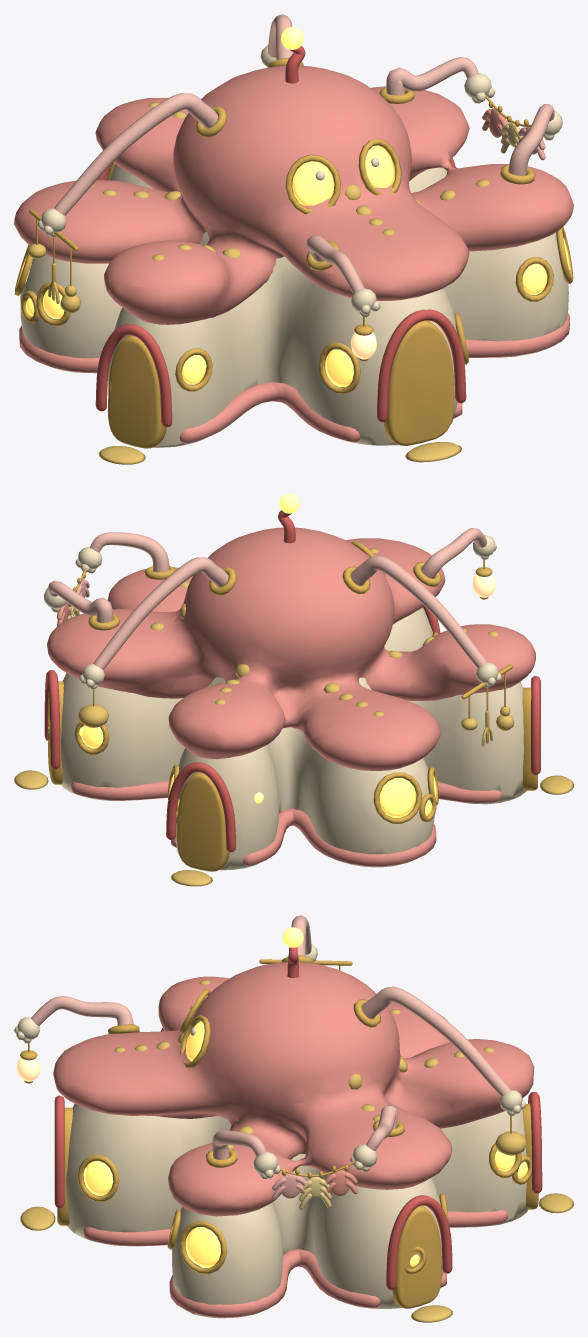
The model's file is house_06_0605.fbx.
3 renders of one model, top to bottom at view 1: azimuth 30°, elevation 25°; view 2: azimuth 150°, elevation 25°; view 3: azimuth 270°, elevation 25°, orthographic. The views are drawn at different scales.
Visible parts, largest first — view 1: Tawan_RoofMantle, Tawan_Body, Tawan_Door_Main, Tawan_WindowRims, Tawan_BaseCushion, Tawan_Windows, Tawan_Door_FrontLeft, Tawan_Arm_ToolsL, Tawan_DoorRim_Main, Tawan_DoorRim_FrontLeft, Tawan_ArmHands, Tawan_Arm_ClothesB (+8 smaller); view 2: Tawan_RoofMantle, Tawan_Body, Tawan_BaseCushion, Tawan_Door_Back, Tawan_Arm_ToolsL, Tawan_Arm_ToolsBack, Tawan_WindowRims, Tawan_ArmHands, Tawan_DoorRim_Back, Tawan_Windows, Tawan_Arm_ClothesA, Tawan_Tools (+10 smaller); view 3: Tawan_RoofMantle, Tawan_Body, Tawan_BaseCushion, Tawan_WindowRims, Tawan_Door_BackRight, Tawan_Windows, Tawan_Arm_ToolsBack, Tawan_ArmHands, Tawan_DoorRim_BackRight, Tawan_Arm_Lantern, Tawan_DoorRim_Main, Tawan_RoofDots (+12 smaller).
Part boxes in pixels (<box>): Tawan_RoofMantle: <box>14,65,573,324</box>; Tawan_Body: <box>20,164,568,447</box>; Tawan_Door_Main: <box>384,320,454,445</box>; Tawan_WindowRims: <box>14,138,573,393</box>; Tawan_BaseCushion: <box>19,313,569,443</box>; Tawan_Windows: <box>20,145,569,387</box>; Tawan_Door_FrontLeft: <box>108,335,166,448</box>; Tawan_Arm_ToolsL: <box>54,93,218,215</box>; Tawan_DoorRim_Main: <box>377,309,466,422</box>; Tawan_DoorRim_FrontLeft: <box>95,324,172,427</box>; Tawan_ArmHands: <box>37,45,562,317</box>; Tawan_Arm_ClothesB: <box>386,57,478,95</box>; Tawan_RoofMantle: <box>47,527,535,770</box>; Tawan_Body: <box>61,607,526,870</box>; Tawan_BaseCushion: <box>71,780,502,866</box>; Tawan_Door_Back: <box>177,772,229,871</box>; Tawan_Arm_ToolsL: <box>350,555,487,668</box>; Tawan_Arm_ToolsBack: <box>93,557,228,669</box>; Tawan_WindowRims: <box>47,541,438,824</box>; Tawan_ArmHands: <box>43,534,501,689</box>; Tawan_DoorRim_Back: <box>166,762,235,852</box>; Tawan_Windows: <box>48,725,436,817</box>; Tawan_Arm_ClothesA: <box>90,532,169,571</box>; Tawan_Tools: <box>78,704,514,746</box>; Tawan_RoofMantle: <box>53,962,534,1216</box>; Tawan_Body: <box>66,1103,527,1318</box>; Tawan_BaseCushion: <box>83,1210,507,1317</box>; Tawan_WindowRims: <box>77,988,531,1274</box>; Tawan_Door_BackRight: <box>392,1205,441,1308</box>; Tawan_Windows: <box>83,995,527,1267</box>; Tawan_Arm_ToolsBack: <box>362,986,510,1096</box>; Tawan_ArmHands: <box>14,943,525,1178</box>; Tawan_DoorRim_BackRight: <box>386,1195,452,1290</box>; Tawan_Arm_Lantern: <box>31,996,133,1025</box>; Tawan_DoorRim_Main: <box>54,1095,64,1208</box>; Tawan_RoofDots: <box>114,980,494,1148</box>.
Size of the model in its own units: 6.61 by 3.98 by 6.95.
